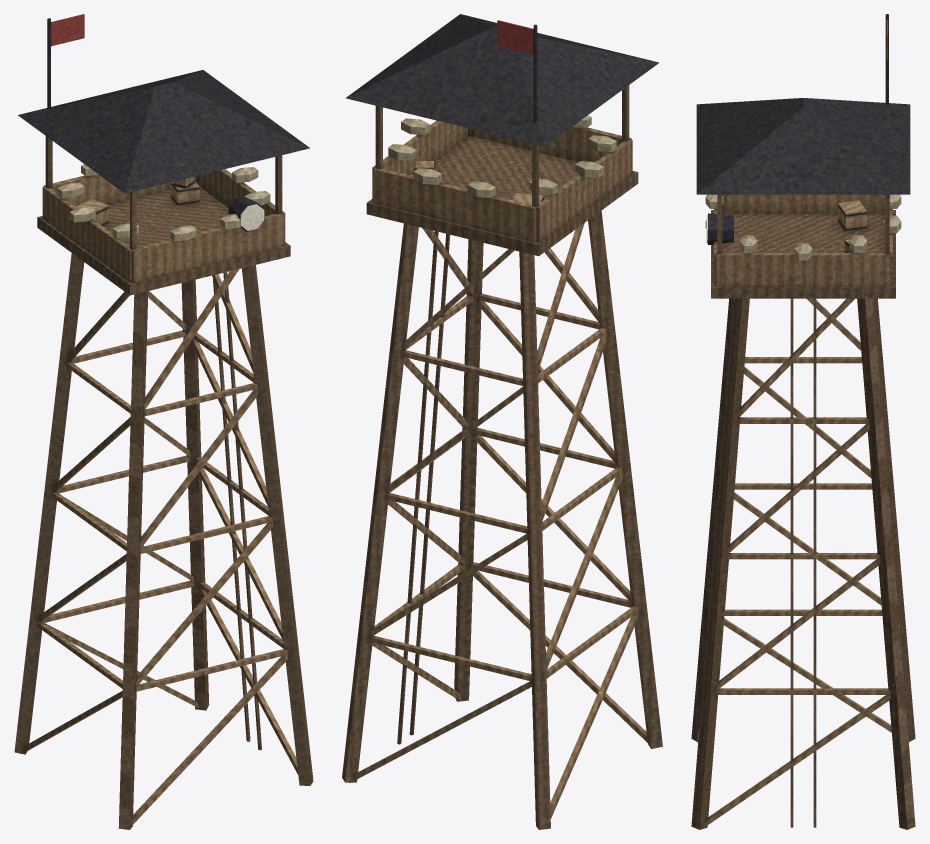
The model's file is SM_GuardTower.fbx.
3 renders of one model, left to right at view 1: azimuth 30°, elevation 25°; view 2: azimuth 150°, elevation 25°; view 3: azimuth 270°, elevation 25°, orthographic. The views are drawn at different scales.
Parts seen in each view (by area): view 1: SM_GuardTower; view 2: SM_GuardTower; view 3: SM_GuardTower.
Boxes of the visible parts, bbox=[...] form: SM_GuardTower: bbox=[14, 14, 313, 829]; SM_GuardTower: bbox=[342, 14, 662, 829]; SM_GuardTower: bbox=[691, 14, 915, 829].
Size of what is drawn, in the model's own units: 776 by 2807 by 776.
2 materials, 2 textured.
